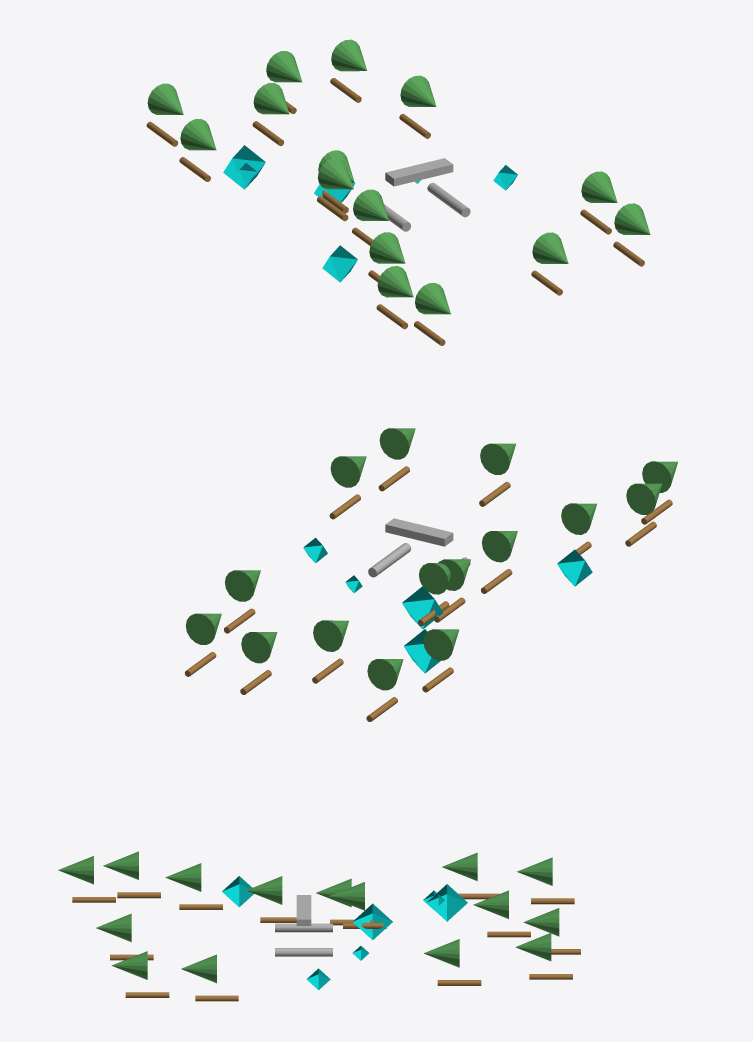
File: infinite_tile_scene.glb
3 renders of one model, top to bottom at view 1: azimuth 30°, elevation 25°; view 2: azimuth 150°, elevation 25°; view 3: azimuth 270°, elevation 25°, orthographic. The views are drawn at different scales.
Visible parts, largest first — view 1: Arch_Beam, Tree_Foliage_8, Tree_Foliage_9, Tree_Foliage_3, Tree_Foliage_13, Tree_Foliage_14, Tree_Foliage_0, Tree_Foliage_12, Tree_Foliage_11, Tree_Foliage_5, Tree_Foliage_6, Tree_Foliage_1 (+5 smaller); view 2: Arch_Beam, Tree_Foliage_14, Tree_Foliage_12, Tree_Foliage_0, Tree_Foliage_6, Tree_Foliage_9, Tree_Foliage_8, Tree_Foliage_10, Tree_Foliage_4, Tree_Foliage_5, Tree_Foliage_7, Tree_Foliage_1 (+6 smaller); view 3: Crystal_2, Crystal_1, Tree_Foliage_14, Tree_Foliage_1, Tree_Foliage_12, Tree_Foliage_3, Tree_Foliage_5, Tree_Foliage_10, Tree_Foliage_4, Tree_Foliage_6, Tree_Foliage_8, Tree_Foliage_7 (+9 smaller).
Part boxes in pixels (bbox=[...]): Arch_Beam: bbox=[385, 158, 453, 186]; Tree_Foliage_8: bbox=[180, 119, 216, 150]; Tree_Foliage_9: bbox=[253, 83, 289, 114]; Tree_Foliage_3: bbox=[266, 51, 301, 82]; Tree_Foliage_13: bbox=[415, 283, 450, 314]; Tree_Foliage_14: bbox=[331, 39, 367, 71]; Tree_Foliage_0: bbox=[377, 266, 413, 297]; Tree_Foliage_12: bbox=[369, 232, 405, 263]; Tree_Foliage_11: bbox=[317, 158, 353, 189]; Tree_Foliage_5: bbox=[614, 203, 650, 234]; Tree_Foliage_6: bbox=[532, 232, 568, 263]; Tree_Foliage_1: bbox=[353, 189, 388, 220]; Arch_Beam: bbox=[385, 518, 453, 546]; Tree_Foliage_14: bbox=[185, 613, 221, 644]; Tree_Foliage_12: bbox=[561, 503, 596, 534]; Tree_Foliage_0: bbox=[626, 483, 662, 514]; Tree_Foliage_6: bbox=[480, 443, 515, 474]; Tree_Foliage_9: bbox=[313, 620, 348, 651]; Tree_Foliage_8: bbox=[423, 629, 459, 660]; Tree_Foliage_10: bbox=[225, 570, 260, 601]; Tree_Foliage_4: bbox=[330, 456, 366, 487]; Tree_Foliage_5: bbox=[379, 428, 415, 459]; Tree_Foliage_7: bbox=[367, 659, 403, 690]; Tree_Foliage_1: bbox=[482, 531, 517, 562]; Crystal_2: bbox=[426, 884, 467, 921]; Crystal_1: bbox=[352, 903, 392, 940]; Tree_Foliage_14: bbox=[515, 933, 551, 961]; Tree_Foliage_1: bbox=[246, 876, 282, 904]; Tree_Foliage_12: bbox=[165, 863, 201, 891]; Tree_Foliage_3: bbox=[523, 908, 559, 936]; Tree_Foliage_5: bbox=[111, 951, 147, 979]; Tree_Foliage_10: bbox=[424, 939, 459, 967]; Tree_Foliage_4: bbox=[181, 954, 216, 983]; Tree_Foliage_6: bbox=[96, 913, 131, 942]; Tree_Foliage_8: bbox=[442, 852, 477, 881]; Tree_Foliage_7: bbox=[517, 857, 552, 885].
Size of the model in its own units: 20 by 4.75 by 50.
